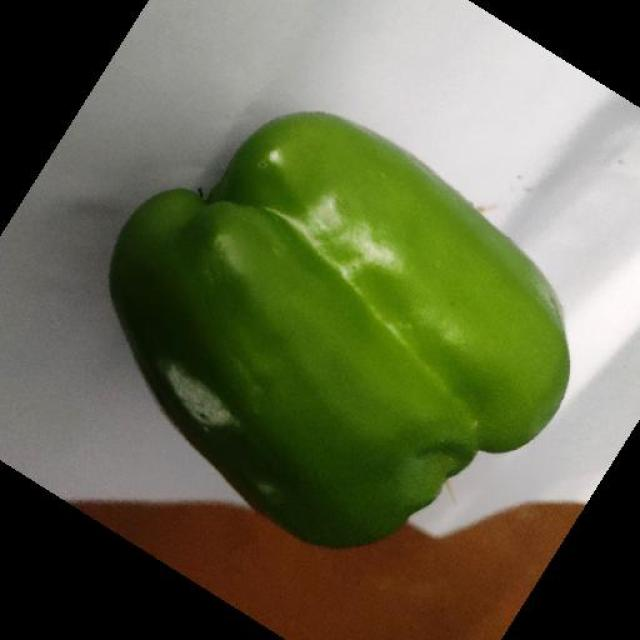Stale_Capsicum: (129, 330, 489, 503)
